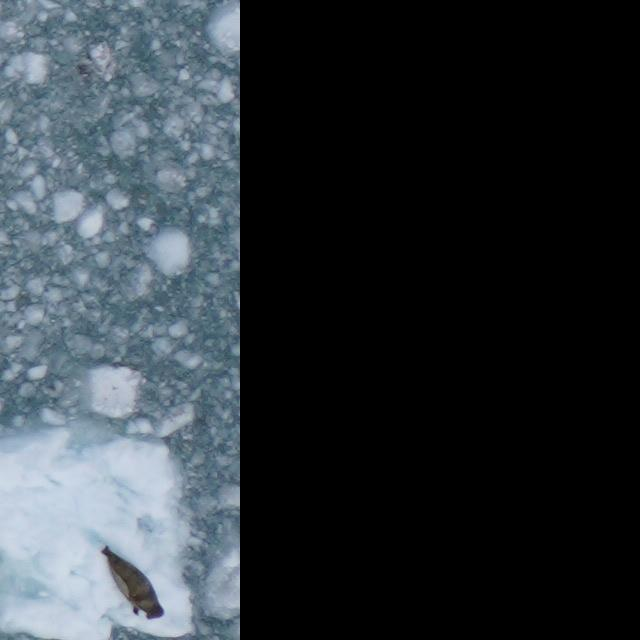seal: (97, 543, 167, 623)
